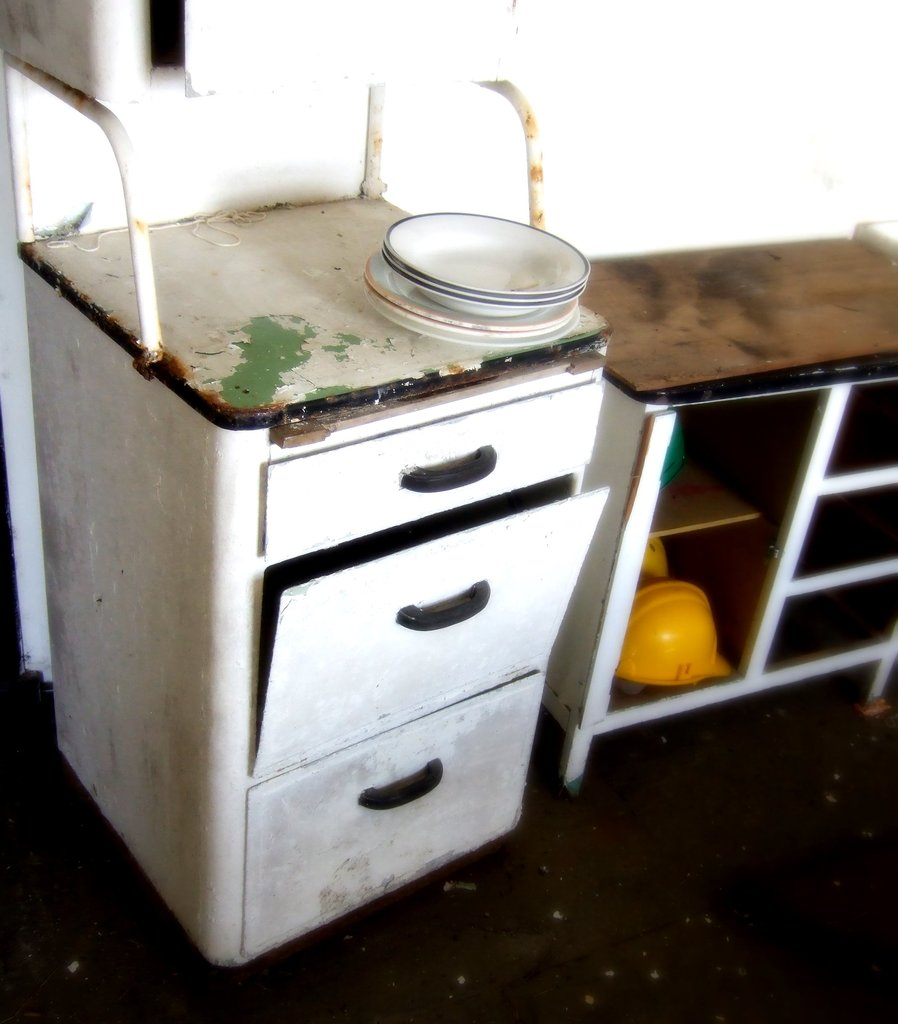cabinet door: (264, 750, 515, 873), (272, 572, 560, 678), (279, 441, 586, 516)
handle: (396, 582, 492, 636), (406, 448, 494, 503), (359, 767, 448, 818)
